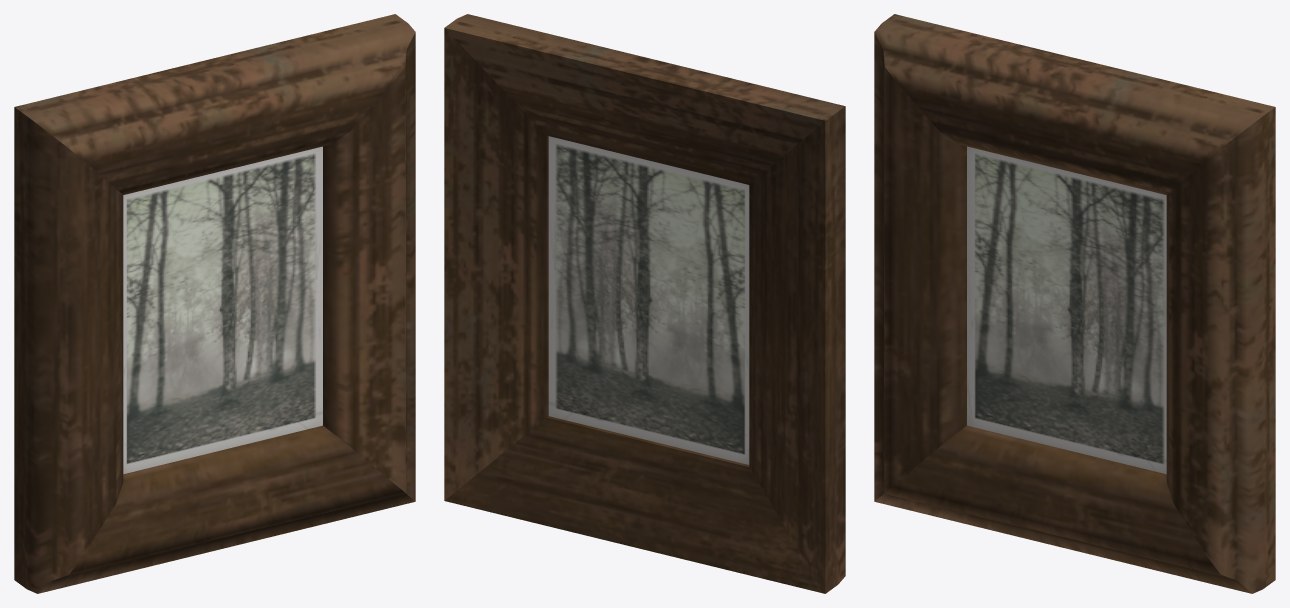
Rendered from Picture_1_Small_Framed.FBX.
3 views of the same model, side by side, from view 1: azimuth 30°, elevation 25°; view 2: azimuth 150°, elevation 25°; view 3: azimuth 330°, elevation 25° (orthographic).
Visible parts, largest first — view 1: Picture_1_Small_Framed; view 2: Picture_1_Small_Framed; view 3: Picture_1_Small_Framed.
Part boxes in pixels (<box>): Picture_1_Small_Framed: <box>14,14,415,593</box>; Picture_1_Small_Framed: <box>444,14,845,593</box>; Picture_1_Small_Framed: <box>874,14,1275,593</box>.
Size of the model in its own units: 30.59 by 36.28 by 4.49.
